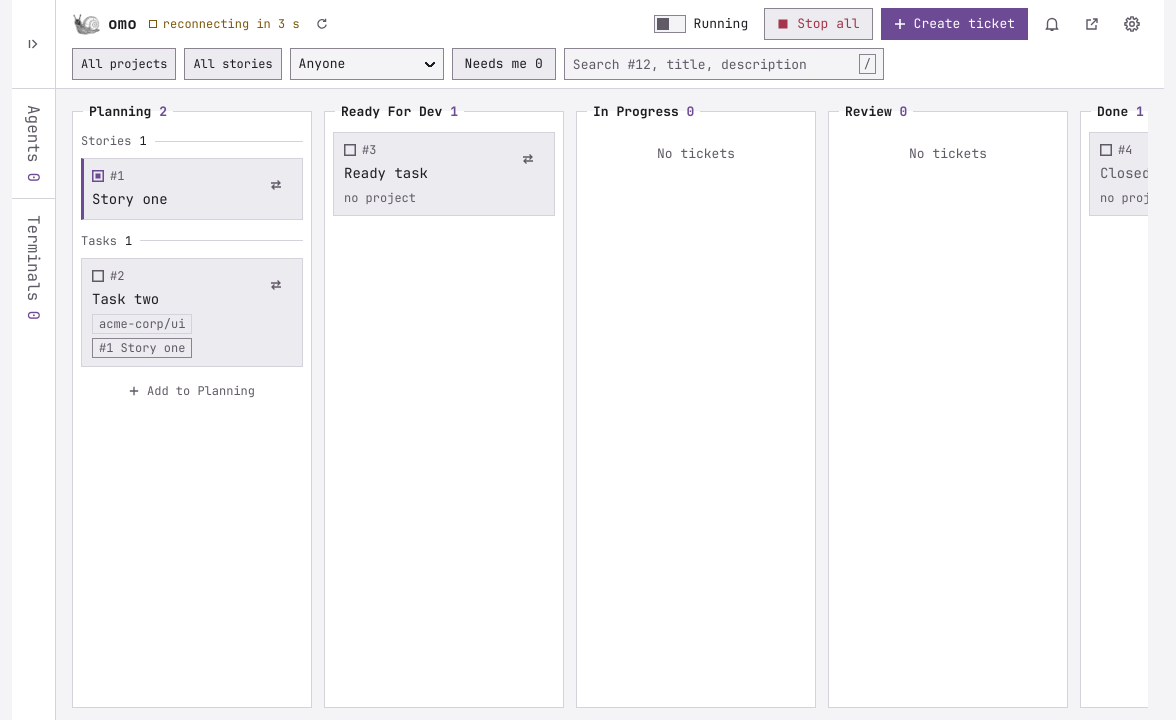
Test case: connection status shows "reconnecting in 3 s" and Retry now reconnects
The width and height of the screenshot is (1176, 720).
Click the button named "Retry now" at (322, 24), box [306, 8, 338, 40]
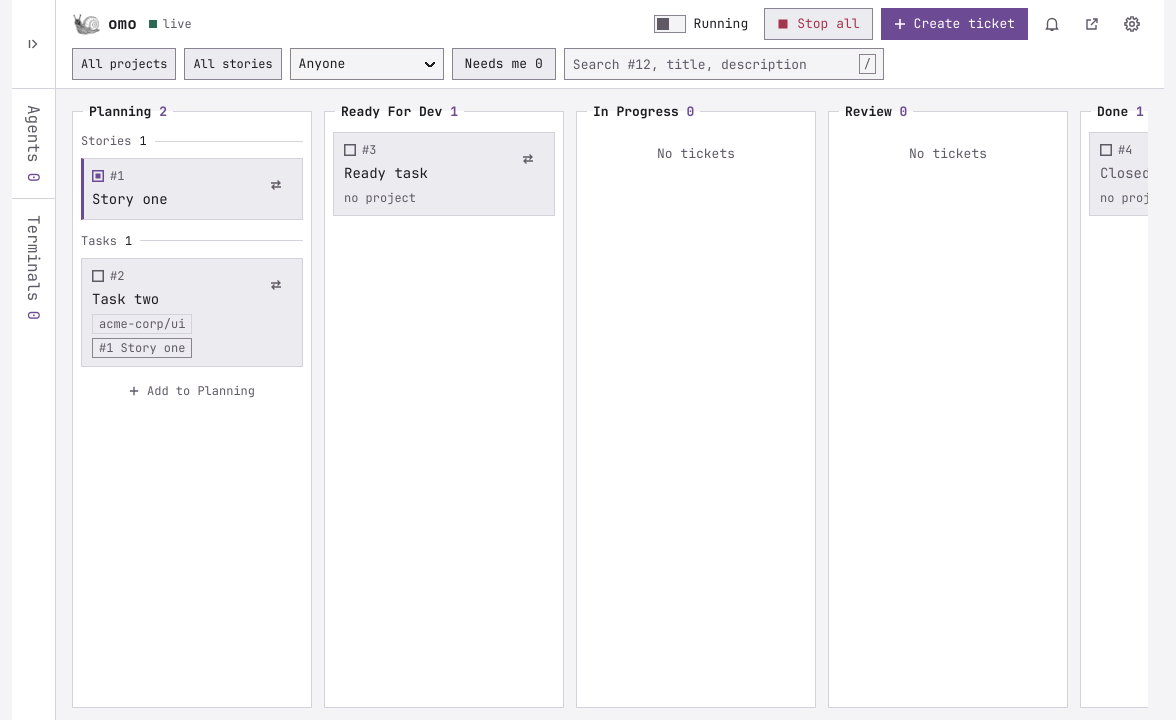
Check: the text "live" is shown, box [163, 15, 192, 33]
